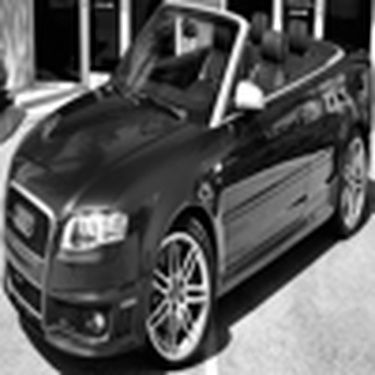car: (4, 5, 362, 363)
